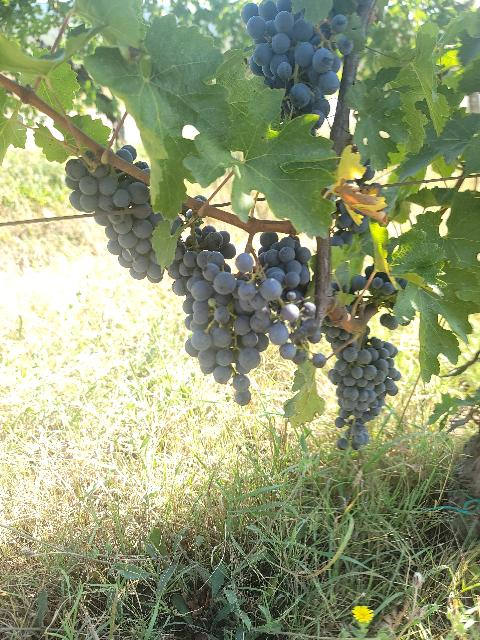grapes: (241, 0, 354, 126), (65, 159, 164, 280), (198, 270, 270, 405), (250, 232, 321, 364), (329, 335, 401, 450), (168, 225, 236, 331)
